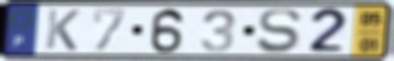2: (304, 6, 354, 56)
3: (199, 9, 237, 53)
6: (149, 6, 188, 54)
7: (90, 7, 128, 53)
K: (43, 7, 82, 52)
S: (255, 8, 304, 55)
